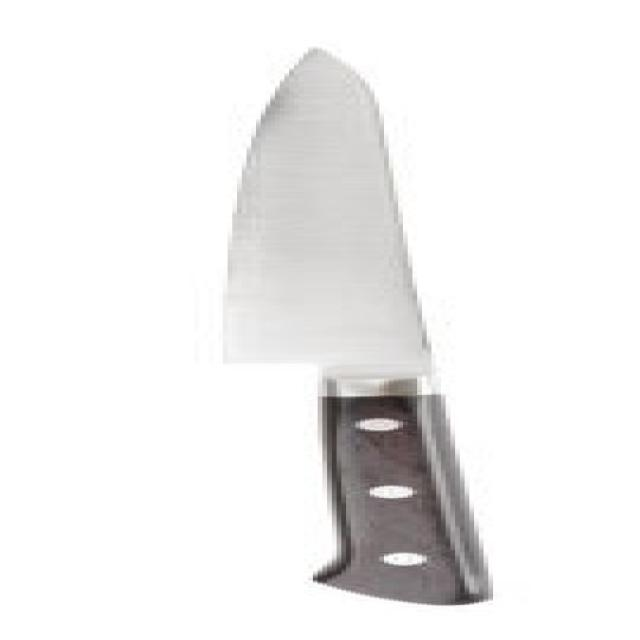knife: (178, 41, 510, 612)
